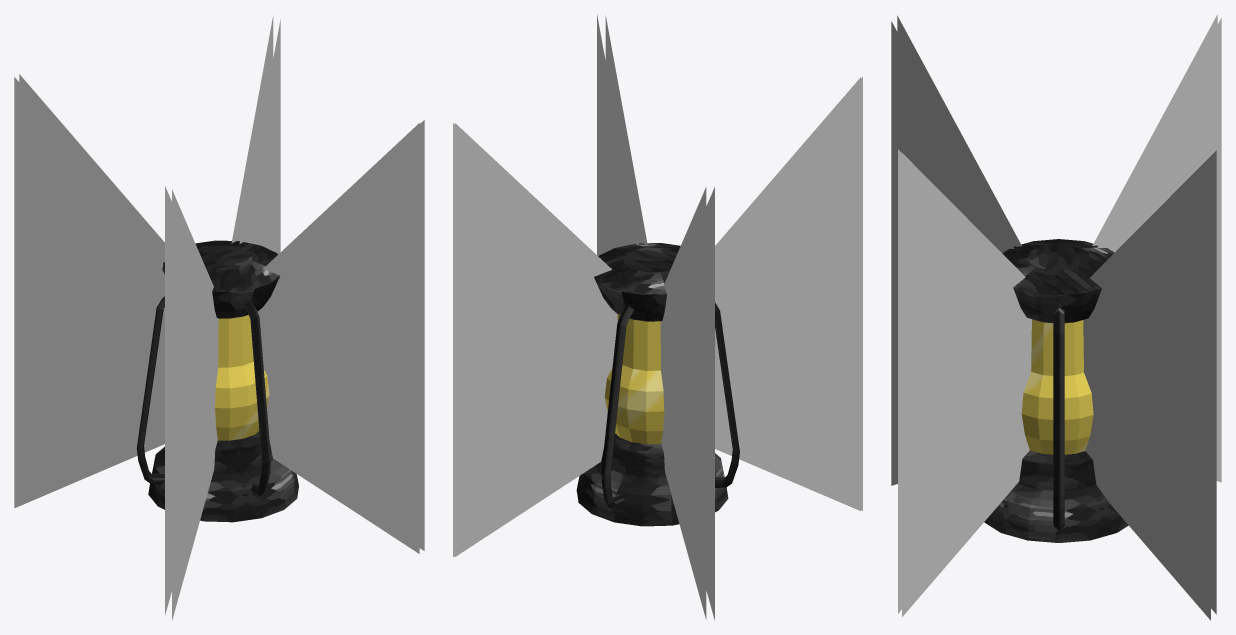
The model's file is Lamp.fbx.
The picture shows the model from 3 angles, left to right: view 1: azimuth 30°, elevation 25°; view 2: azimuth 150°, elevation 25°; view 3: azimuth 270°, elevation 25°; orthographic projection. The views are drawn at different scales.
Parts seen in each view (by area): view 1: LanternLights, Lantern; view 2: LanternLights, Lantern; view 3: LanternLights, Lantern.
Boxes of the visible parts, x1=… form: LanternLights: x1=14, y1=15, x2=424, y2=620; Lantern: x1=136, y1=240, x2=298, y2=522; LanternLights: x1=453, y1=14, x2=862, y2=620; Lantern: x1=576, y1=243, x2=739, y2=526; LanternLights: x1=891, y1=14, x2=1221, y2=620; Lantern: x1=984, y1=239, x2=1128, y2=542.
Bounding box in the file's own units: 44.65 × 70.41 × 44.96.
Materials: 2 (1 with a texture image).
